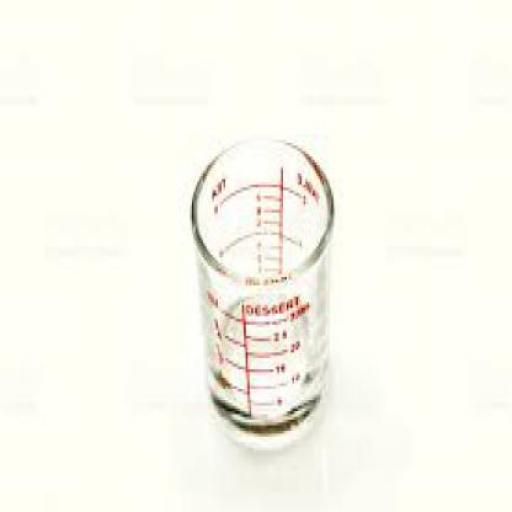glass: (190, 134, 332, 433)
